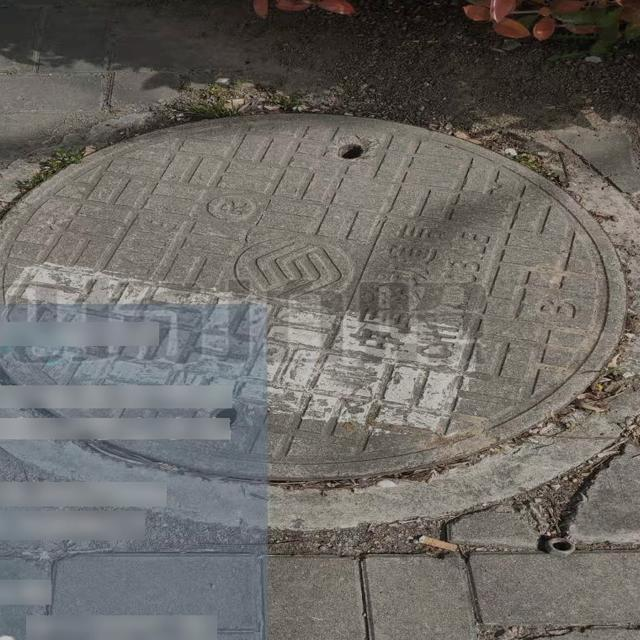circle: (0, 93, 640, 513)
